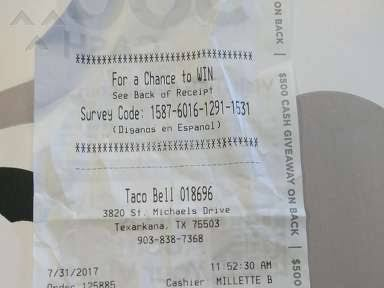Taco Bell: (120, 184, 177, 204)
